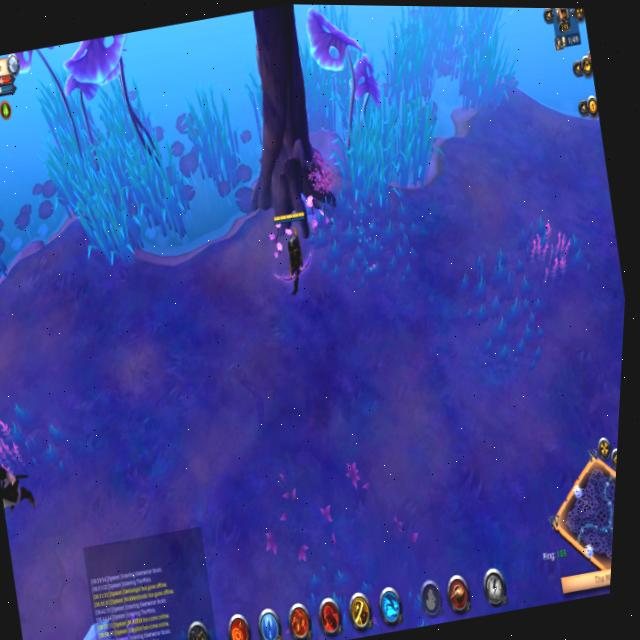ore: (0, 438, 46, 524)
red: (264, 205, 323, 299)
